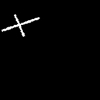single_crochet: (2, 15, 38, 35)
